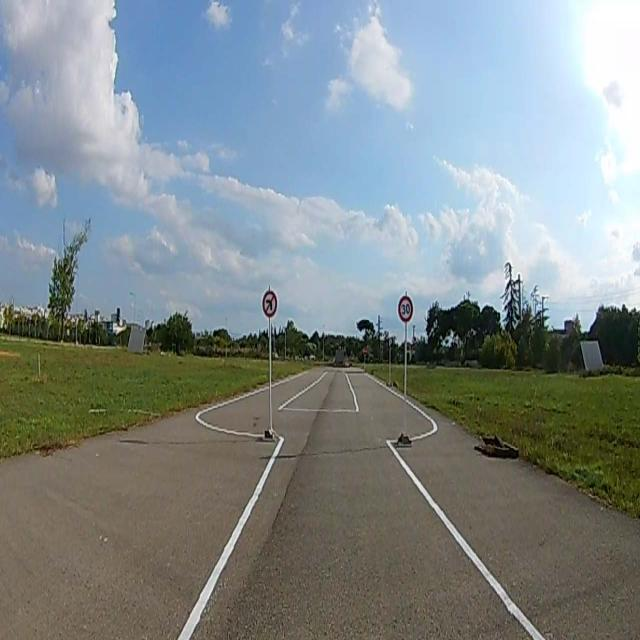30: (399, 295, 413, 319)
soladonulmez: (262, 292, 277, 316)
